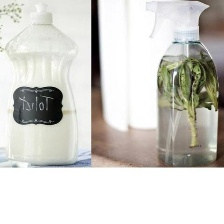cleaning_solution: (140, 0, 221, 166), (0, 1, 79, 166)
